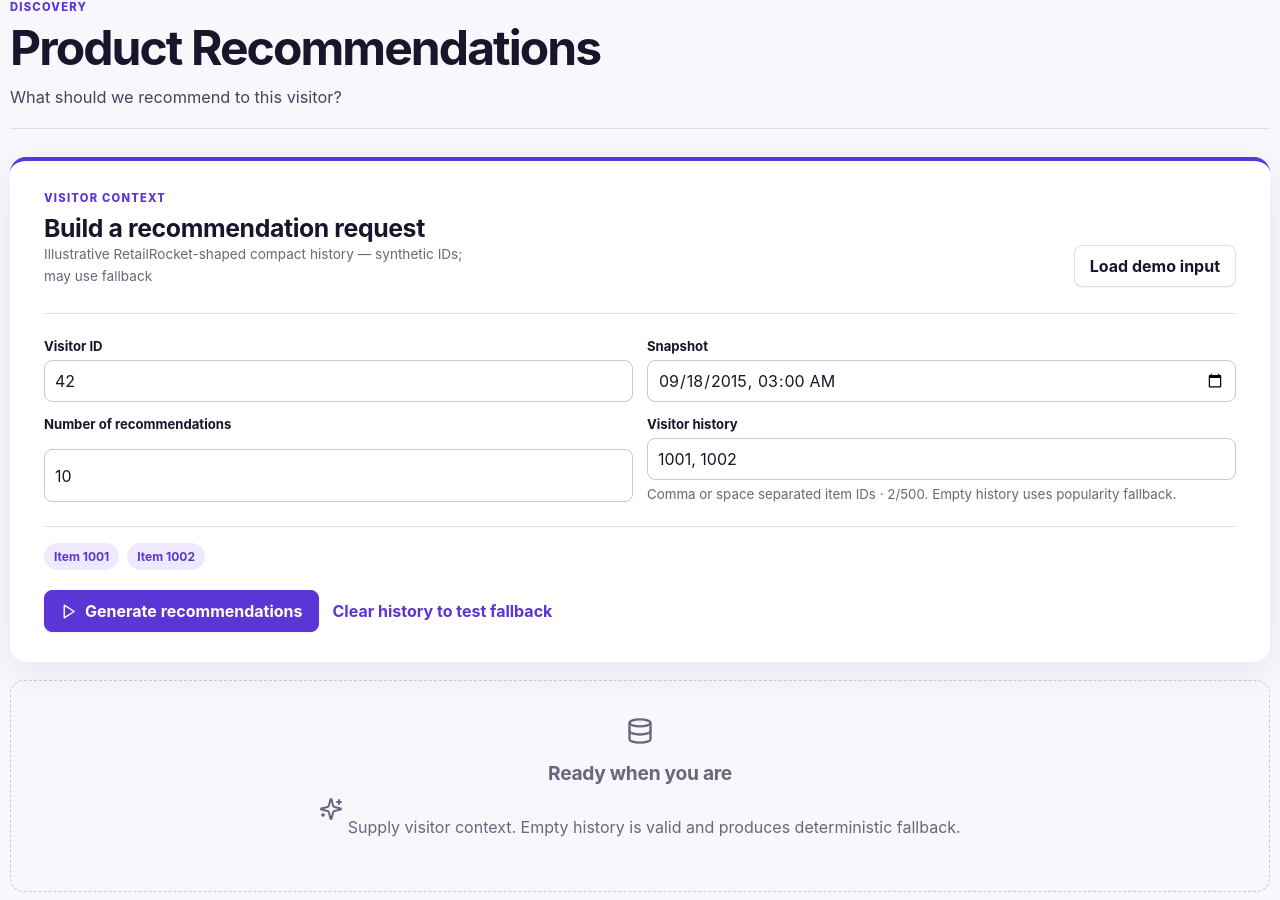
Test case: treats recommendation fallback and zero rows as successful
Click the button "Clear history to test fallback" at (442, 611), box [332,597,552,625]
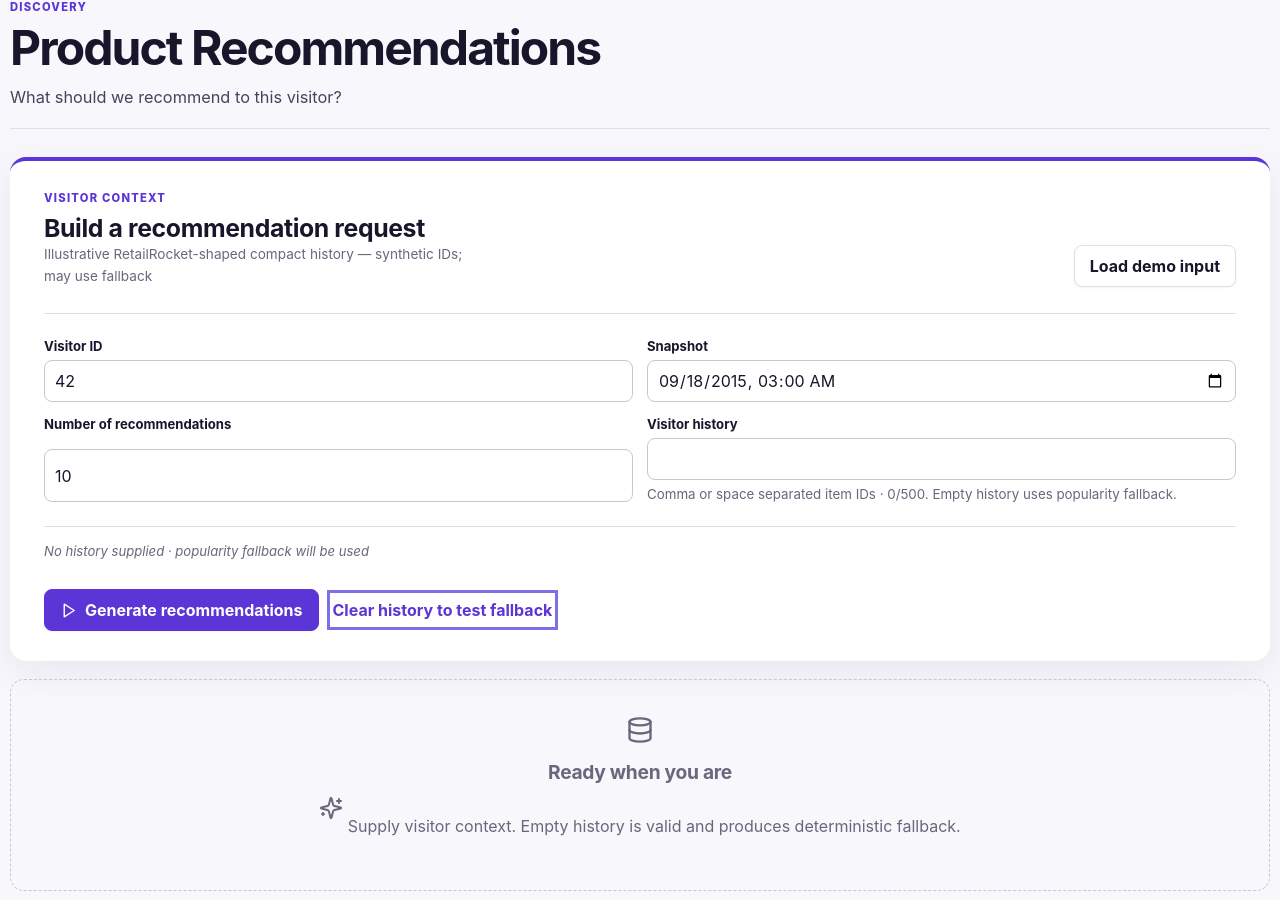
Click the button "Generate recommendations" at (181, 610), box [44,589,318,631]
(page scrolled)
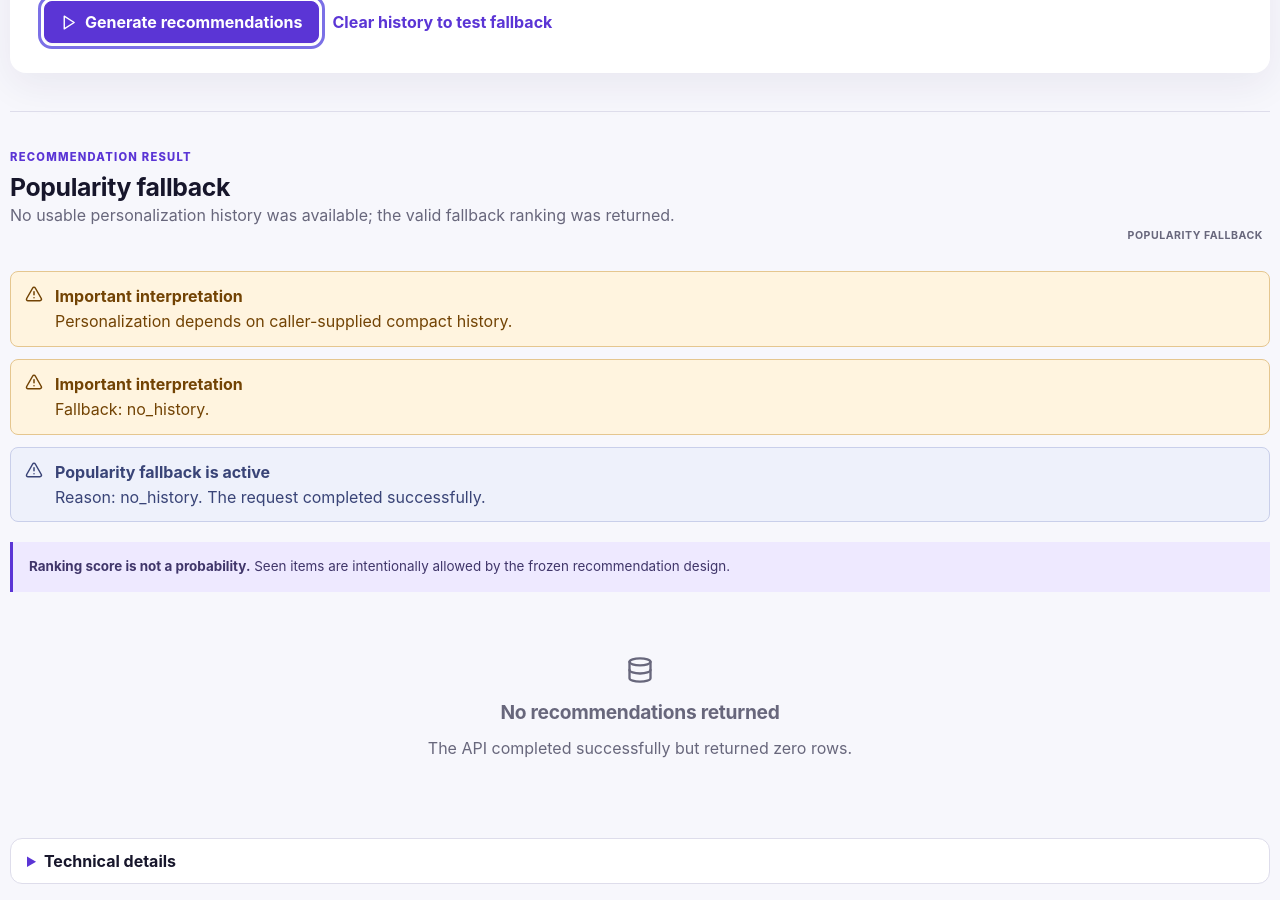
expect the text "Popularity fallback is active" is shown: met, box [55,462,270,482]
expect the heading "No recommendations returned" is shown: met, box [500,700,780,724]
